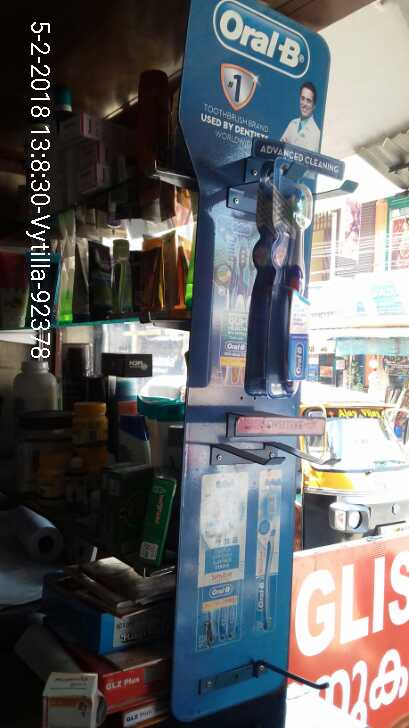oralb: (259, 144, 322, 388)
